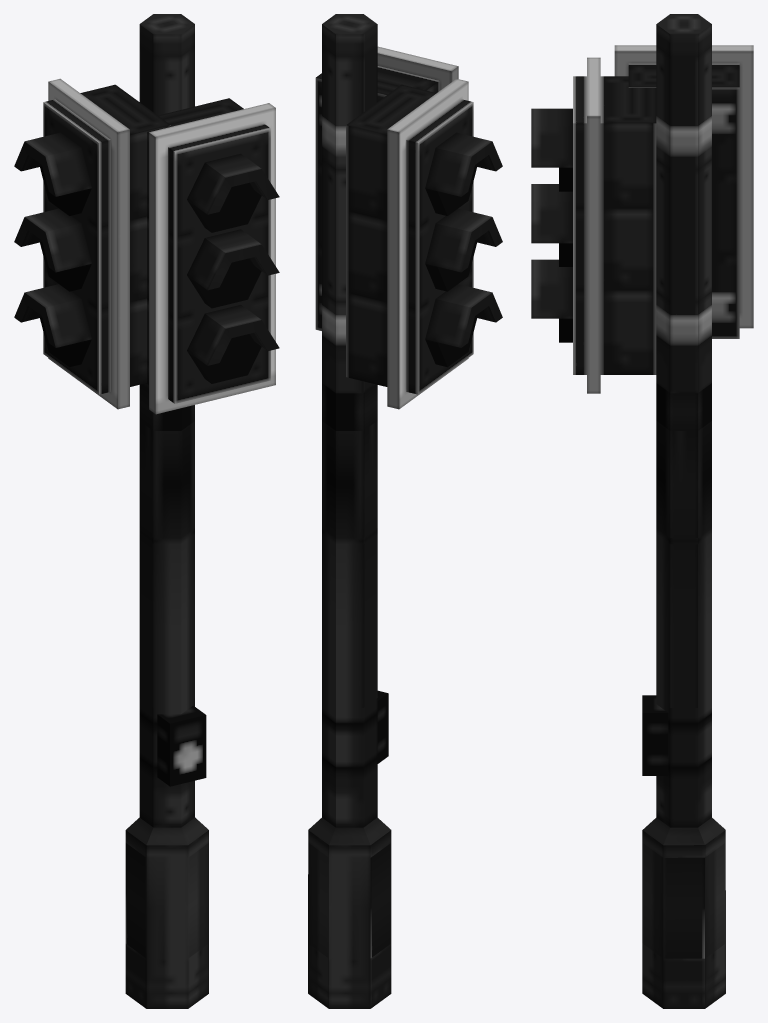
The model's file is TrafficLight_RightAngle.fbx.
3 renders of one model, left to right at view 1: azimuth 30°, elevation 25°; view 2: azimuth 150°, elevation 25°; view 3: azimuth 270°, elevation 25°, orthographic.
Parts seen in each view (by area): view 1: TrafficLight_RightAngle; view 2: TrafficLight_RightAngle; view 3: TrafficLight_RightAngle.
Boxes of the visible parts, left/top/right/bottom form: TrafficLight_RightAngle: left=14, top=14, right=279, bottom=1008; TrafficLight_RightAngle: left=308, top=14, right=502, bottom=1008; TrafficLight_RightAngle: left=531, top=14, right=753, bottom=1008.
Bounding box in the file's own units: 8 × 38.5 × 8.
